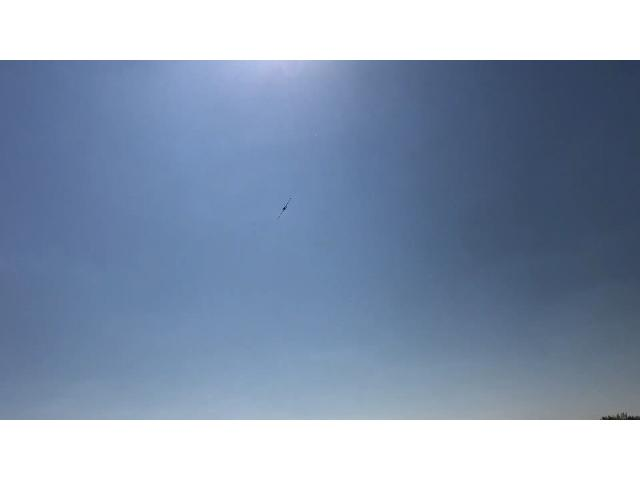Anti-Drone: (267, 181, 305, 227)
